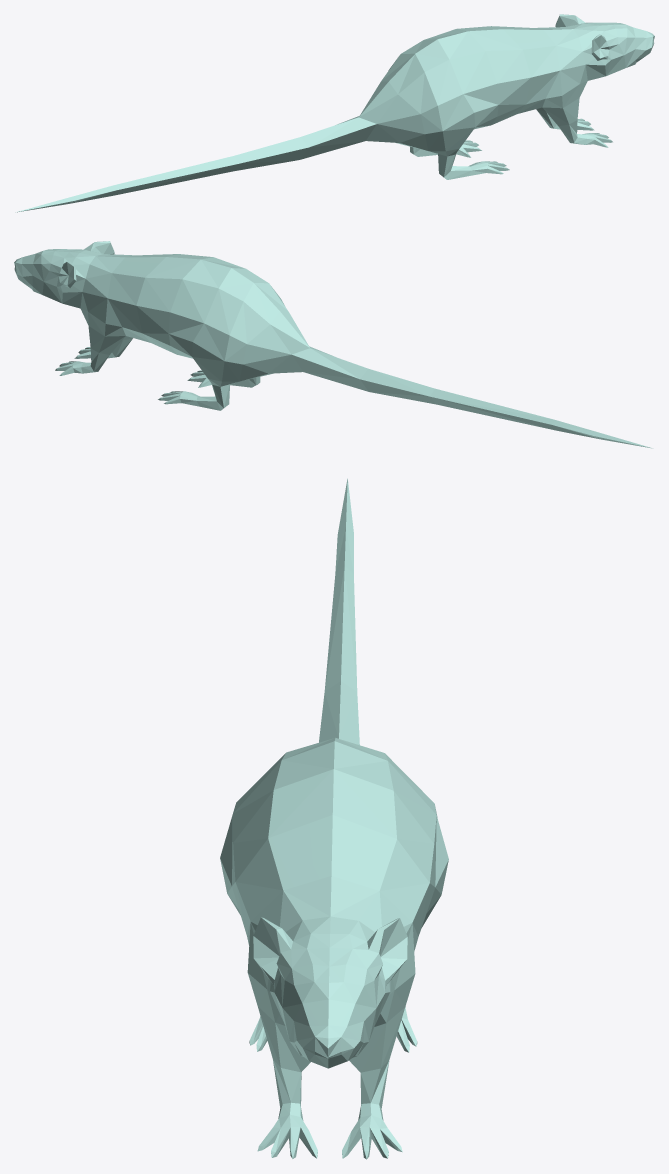
The picture shows the model from 3 angles, top to bottom: view 1: azimuth 30°, elevation 25°; view 2: azimuth 150°, elevation 25°; view 3: azimuth 270°, elevation 25°; orthographic projection. The views are drawn at different scales.
Parts seen in each view (by area): view 1: grp1; view 2: grp1; view 3: grp1.
Boxes of the visible parts, x1=… form: grp1: x1=15, y1=14, x2=654, y2=212; grp1: x1=14, y1=241, x2=653, y2=448; grp1: x1=220, y1=478, x2=448, y2=1159.
Size of the model in its own units: 1.44 by 0.2863 by 0.2248.
